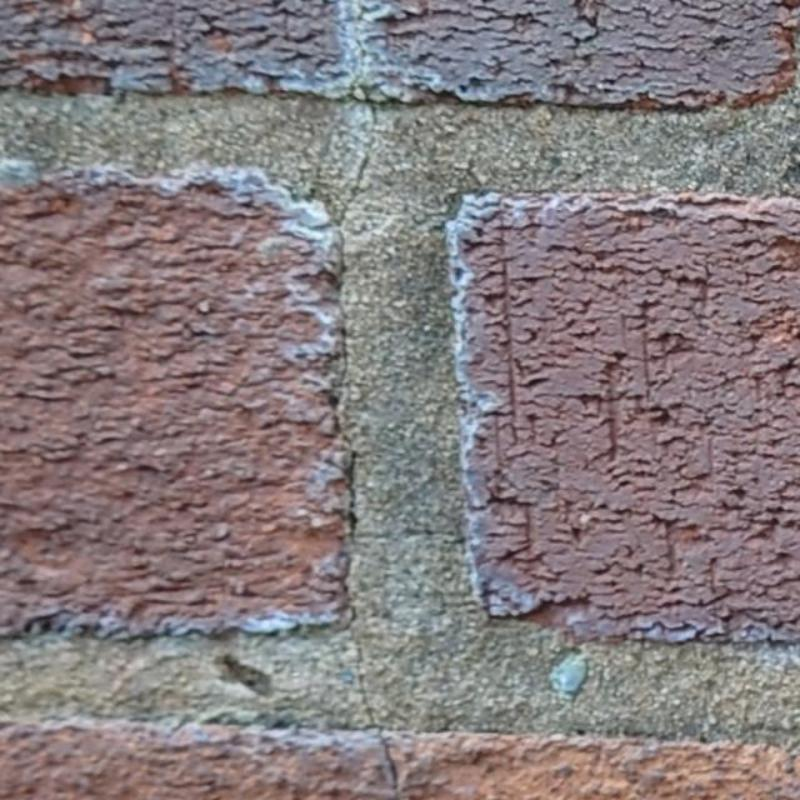pothole: (335, 232, 403, 800), (337, 86, 382, 227)
